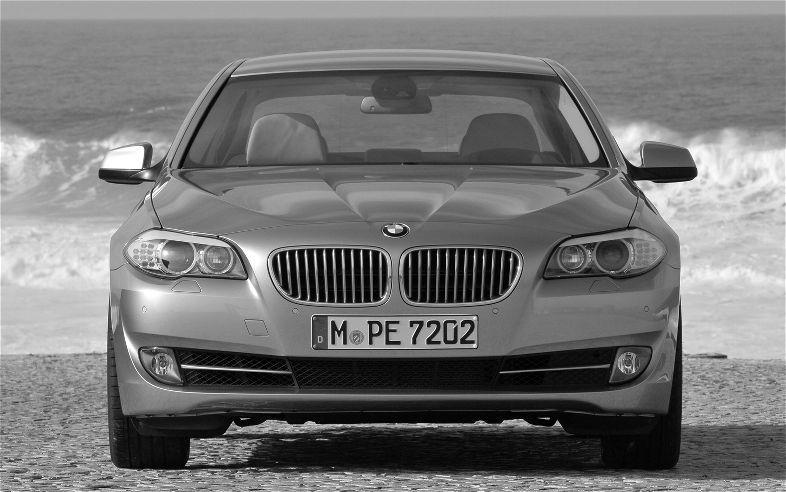car: (97, 47, 704, 469)
